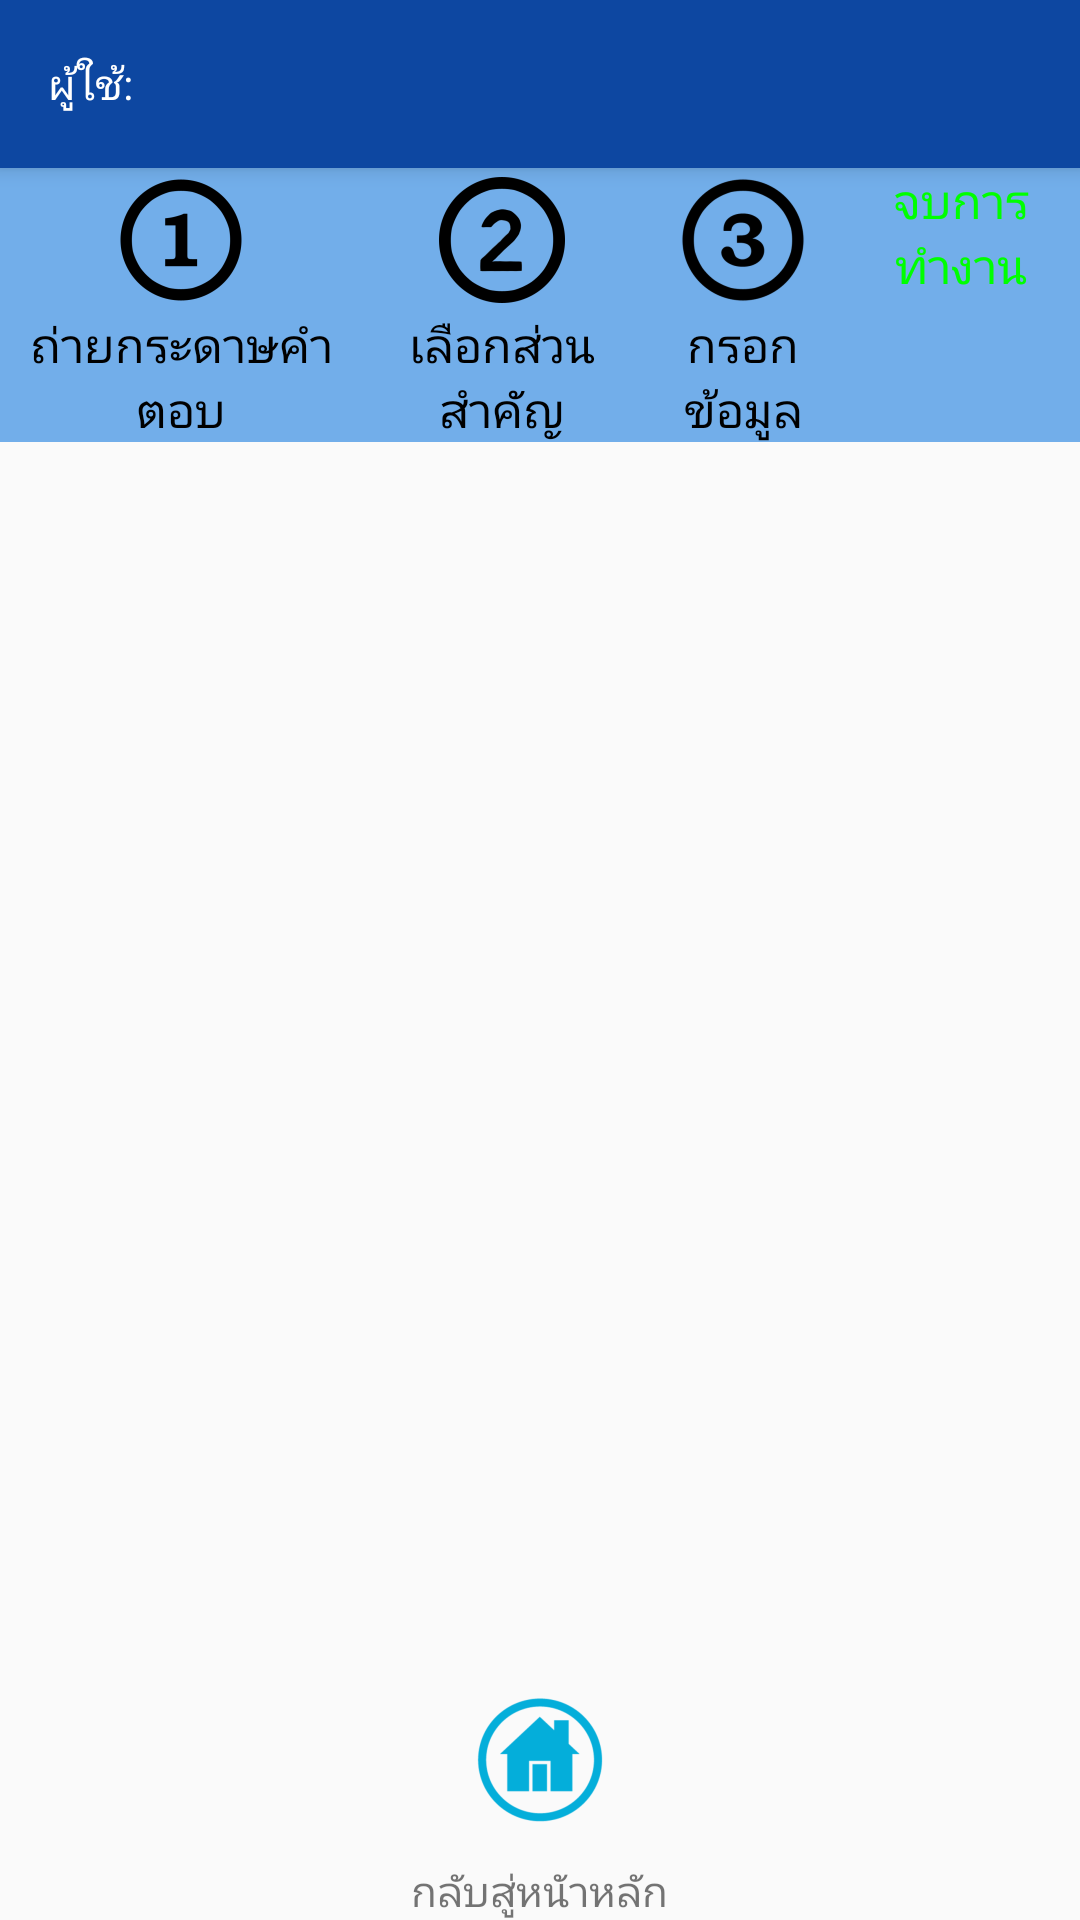

Named icons in this screenshot (1080w x 1920h) and their centers, point (x, y):
home: point (540, 1760)
